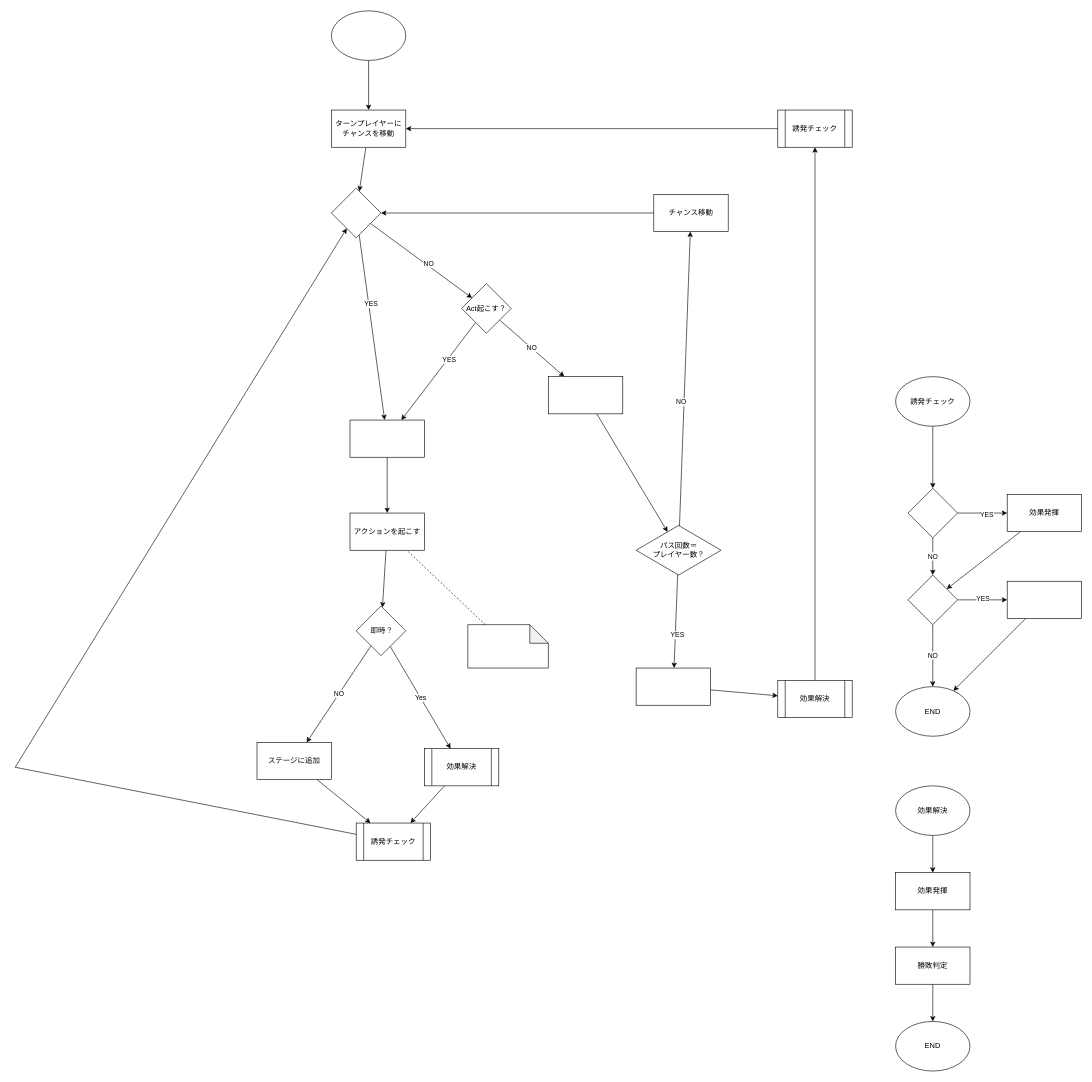
Some shapes in this 1092 by 1082 pixel diagram are drawn without their labels. Each missing label, with the centre of its shape:
"START" goes at [368,35].
"コストの支払い 対象の指定など" goes at [507,646].
"ステージから取出" goes at [673,686].
"ステージに 空か？" goes at [356,213].
"ステージ追加" goes at [1044,599].
"パス回数リセット" goes at [386,438].
"パス回数＋１" goes at [585,395].
"即時誘発有" goes at [932,513].
"誘発有" goes at [932,599].
